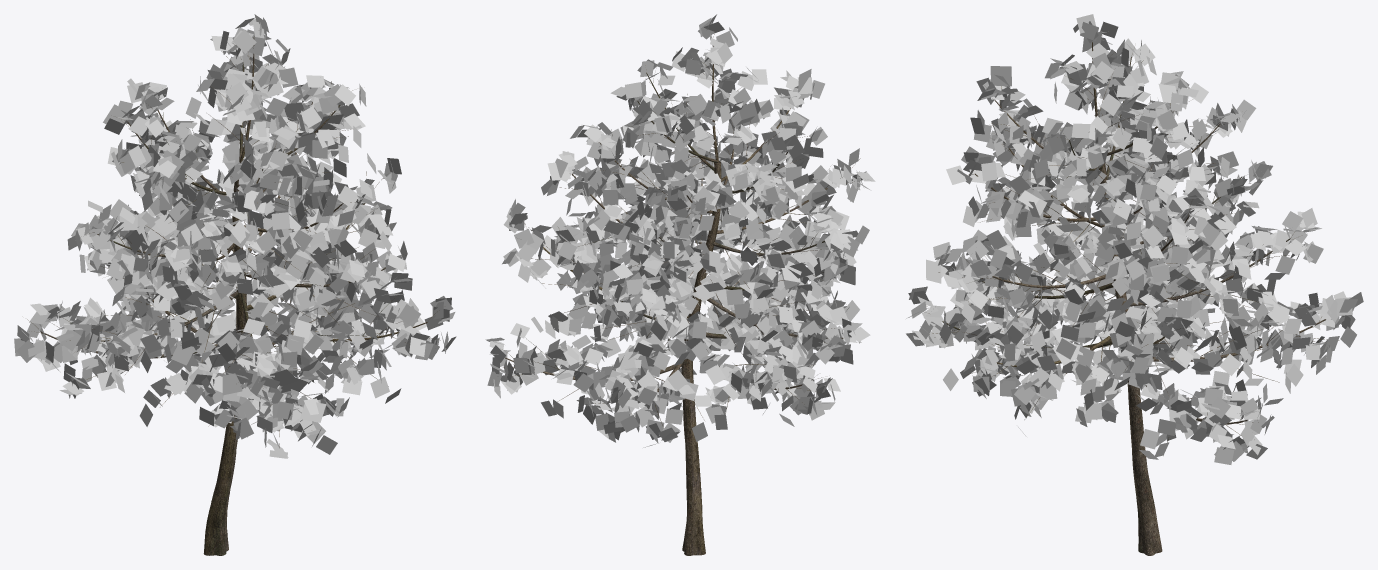
Rendered from SM_Tree_Wetland_09.FBX.
The picture shows the model from 3 angles, left to right: view 1: azimuth 30°, elevation 25°; view 2: azimuth 150°, elevation 25°; view 3: azimuth 270°, elevation 25°; orthographic projection. The views are drawn at different scales.
Parts seen in each view (by area): view 1: SM_Tree_Wetland_7_LOD0; view 2: SM_Tree_Wetland_7_LOD0; view 3: SM_Tree_Wetland_7_LOD0.
Boxes of the visible parts, bbox=[...] form: SM_Tree_Wetland_7_LOD0: bbox=[14, 14, 456, 555]; SM_Tree_Wetland_7_LOD0: bbox=[485, 14, 875, 555]; SM_Tree_Wetland_7_LOD0: bbox=[906, 14, 1363, 555].
Size of what is drawn, in the model's own units: 533 by 589 by 764.
